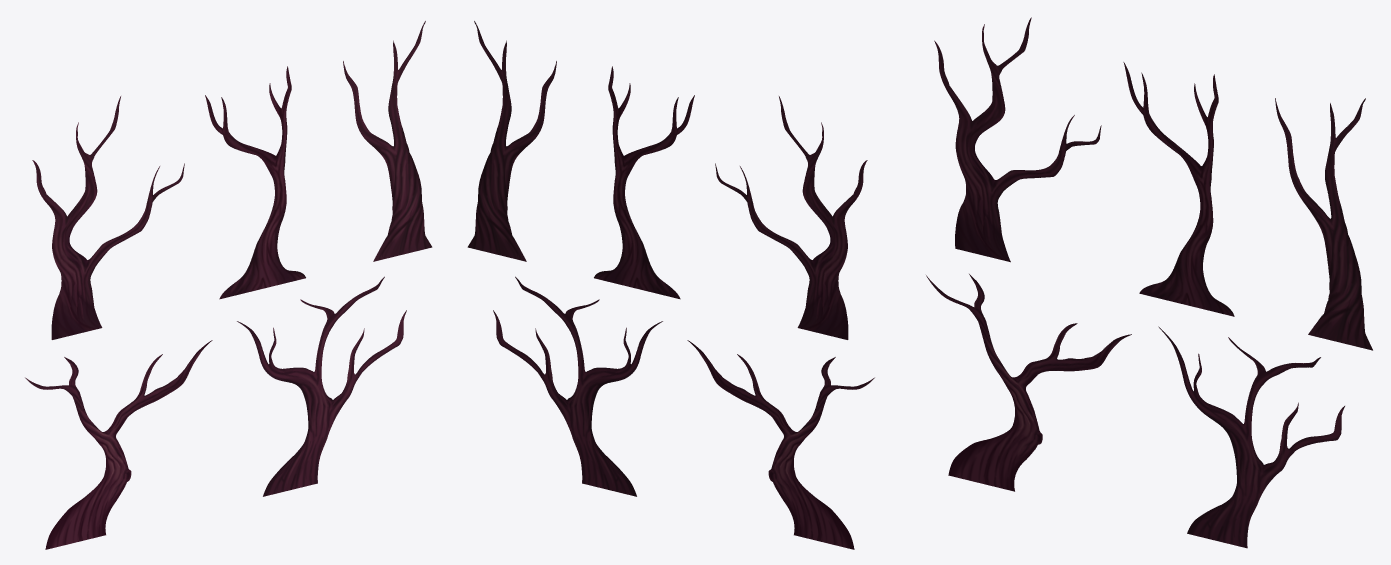
Rendered from P_Branch01.FBX.
The picture shows the model from 3 angles, left to right: view 1: azimuth 30°, elevation 25°; view 2: azimuth 150°, elevation 25°; view 3: azimuth 330°, elevation 25°; orthographic projection. The views are drawn at different scales.
Parts seen in each view (by area): view 1: mesh_Branch01_A, mesh_Branch01_E, mesh_Branch01_D, mesh_Branch01_C, mesh_Branch01_B; view 2: mesh_Branch01_A, mesh_Branch01_E, mesh_Branch01_D, mesh_Branch01_C, mesh_Branch01_B; view 3: mesh_Branch01_A, mesh_Branch01_E, mesh_Branch01_D, mesh_Branch01_C, mesh_Branch01_B.
Boxes of the visible parts, <box> form: mesh_Branch01_A: <box>32,96,184,339</box>; mesh_Branch01_E: <box>237,276,406,496</box>; mesh_Branch01_D: <box>25,340,212,549</box>; mesh_Branch01_C: <box>343,21,432,261</box>; mesh_Branch01_B: <box>205,66,305,299</box>; mesh_Branch01_A: <box>715,96,867,339</box>; mesh_Branch01_E: <box>493,276,662,496</box>; mesh_Branch01_D: <box>687,340,874,549</box>; mesh_Branch01_C: <box>467,21,556,261</box>; mesh_Branch01_B: <box>594,66,694,299</box>; mesh_Branch01_A: <box>934,17,1101,262</box>; mesh_Branch01_E: <box>1158,326,1344,548</box>; mesh_Branch01_D: <box>926,274,1131,491</box>; mesh_Branch01_C: <box>1275,98,1372,350</box>; mesh_Branch01_B: <box>1123,62,1234,316</box>.
Size of the model in its own units: 345 by 346 by 1.48e-05.
